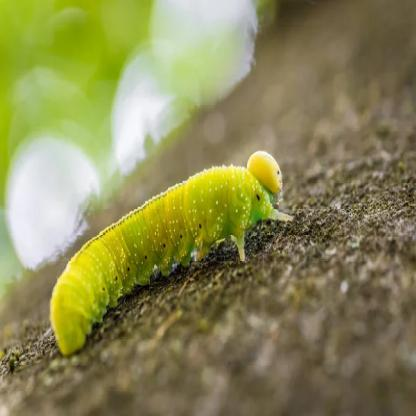sawfly: (46, 148, 300, 367)
